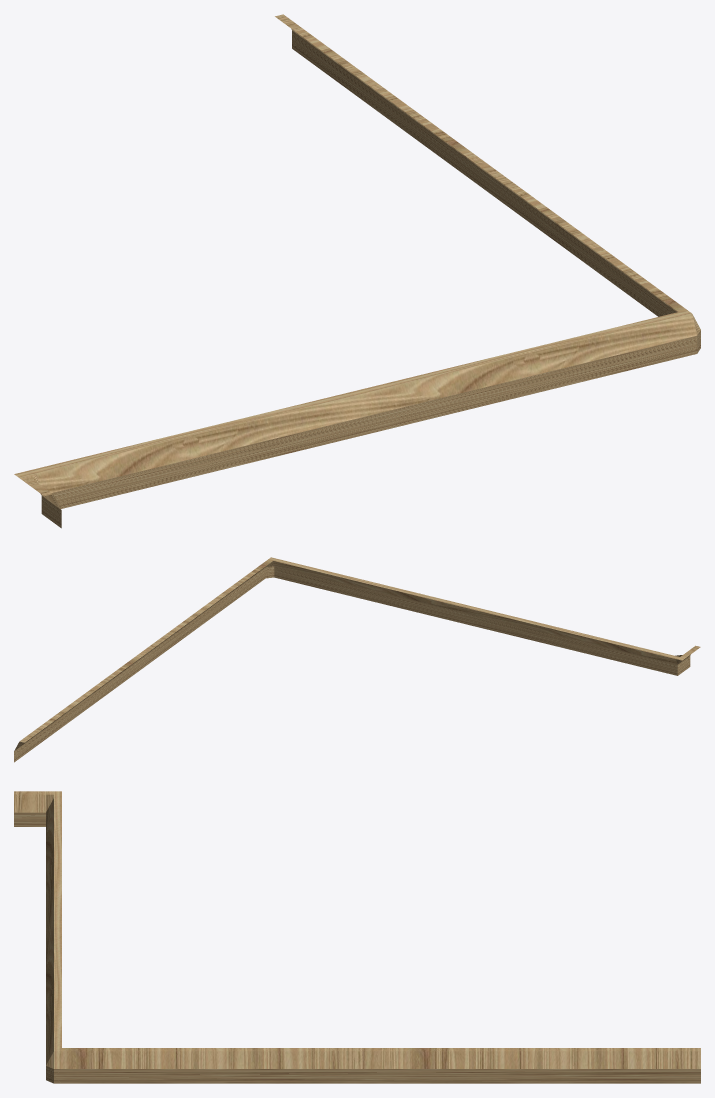
The model's file is SkirtingBoardGroundOuterCornerCustom005.FBX.
3 views of the same model, one above another, from view 1: azimuth 30°, elevation 25°; view 2: azimuth 150°, elevation 25°; view 3: azimuth 270°, elevation 25° (orthographic). The views are drawn at different scales.
Parts seen in each view (by area): view 1: SkirtingBoardGroundOuterCornerCustom005; view 2: SkirtingBoardGroundOuterCornerCustom005; view 3: SkirtingBoardGroundOuterCornerCustom005.
Boxes of the visible parts, left/top/right/bottom form: SkirtingBoardGroundOuterCornerCustom005: left=14, top=14, right=700, bottom=528; SkirtingBoardGroundOuterCornerCustom005: left=14, top=557, right=700, bottom=762; SkirtingBoardGroundOuterCornerCustom005: left=14, top=791, right=700, bottom=1083.
Size of the model in its own units: 195 by 10 by 215.
